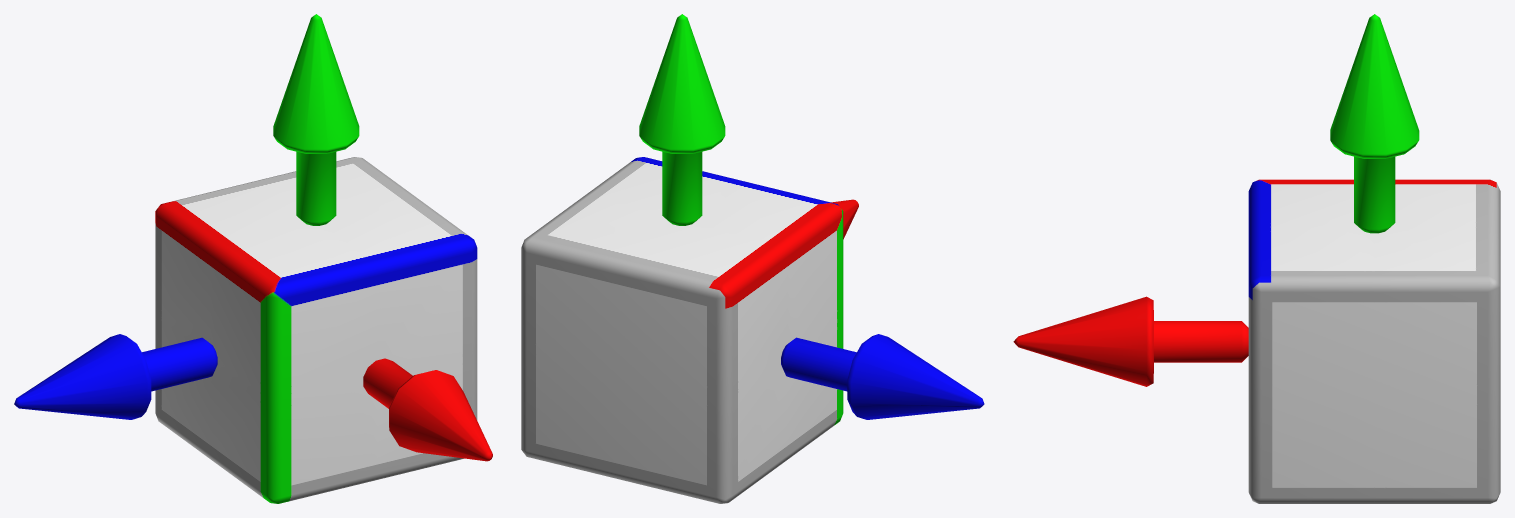
The model's file is mesh_ASE_cubekey.fbx.
3 renders of one model, left to right at view 1: azimuth 30°, elevation 25°; view 2: azimuth 150°, elevation 25°; view 3: azimuth 270°, elevation 25°, orthographic. The views are drawn at different scales.
Parts seen in each view (by area): view 1: mesh_ASE_cubekey; view 2: mesh_ASE_cubekey; view 3: mesh_ASE_cubekey.
Boxes of the visible parts, <box> form: mesh_ASE_cubekey: <box>14,14,492,503</box>; mesh_ASE_cubekey: <box>521,14,984,503</box>; mesh_ASE_cubekey: <box>1013,14,1500,503</box>.
Bounding box in the file's own units: 387 × 387 × 387.
